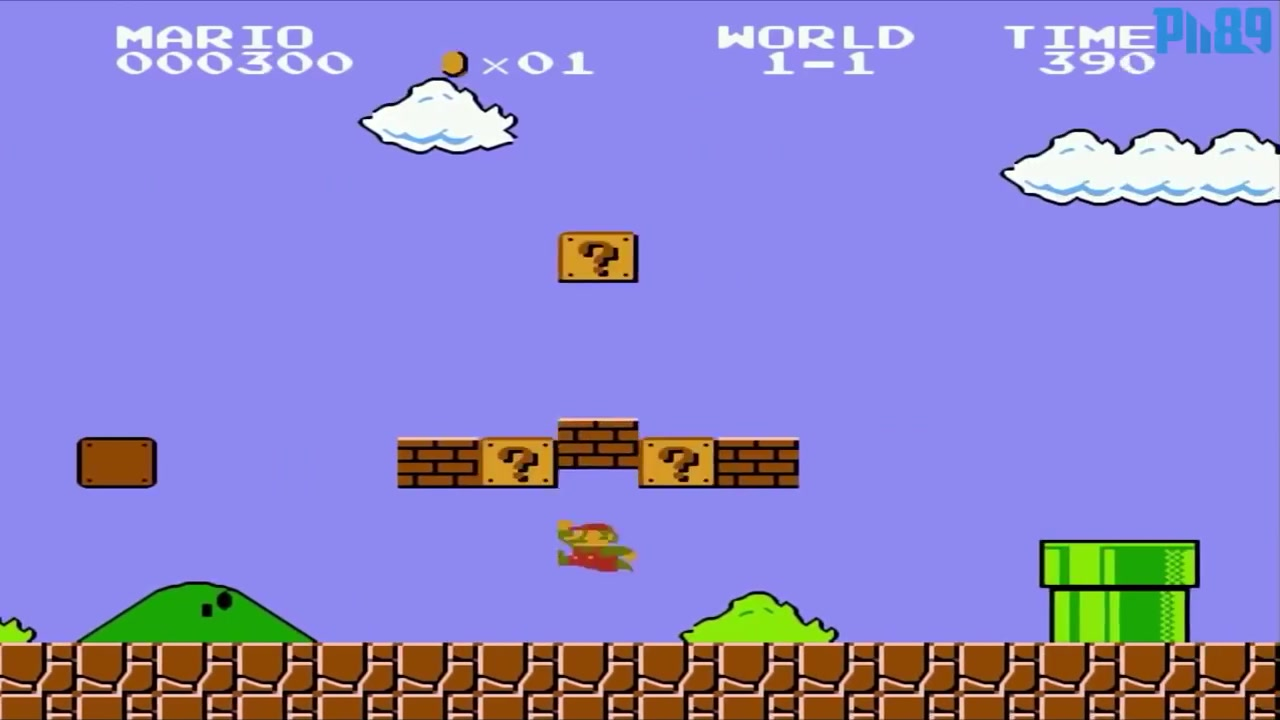mario: (546, 512, 645, 579)
